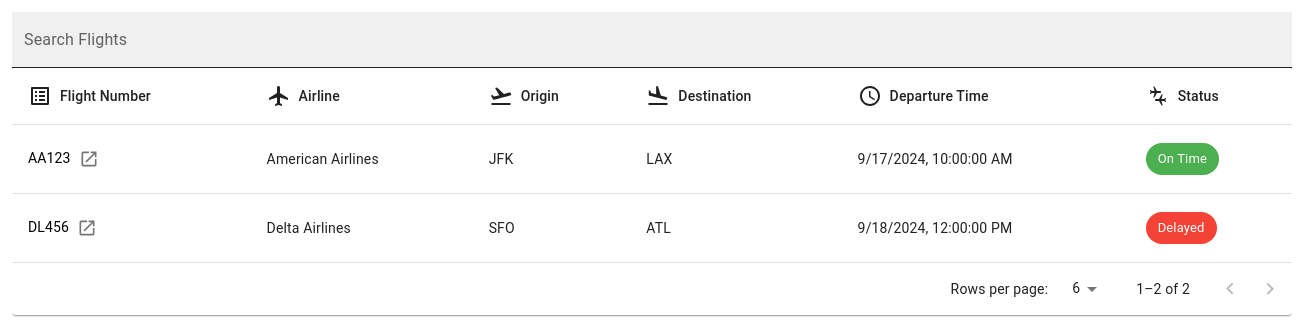
FlightBoard Component › filters flights based on search query
Type "AA123" into the field labelled "Search Flights".
click(652, 40); type("AA123")  # box [12,12,1292,68]
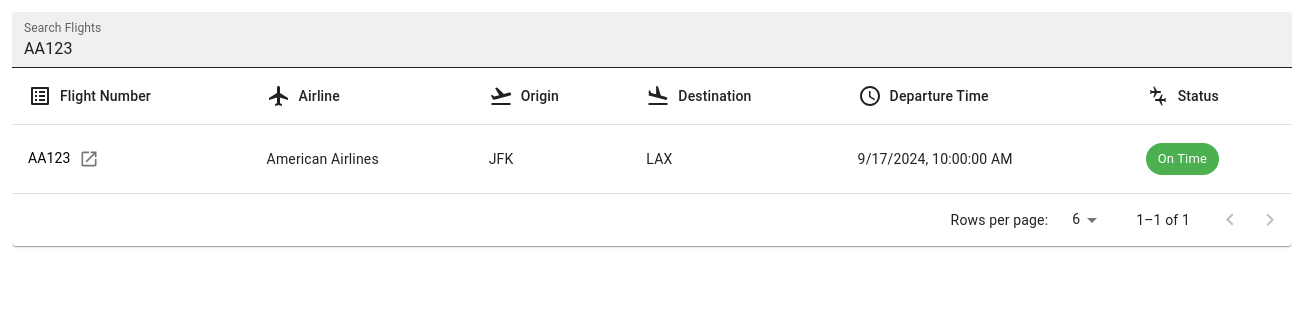
expect the link "AA123" is shown: met, box [28,150,107,166]
expect the link "DL456" is gone: met
